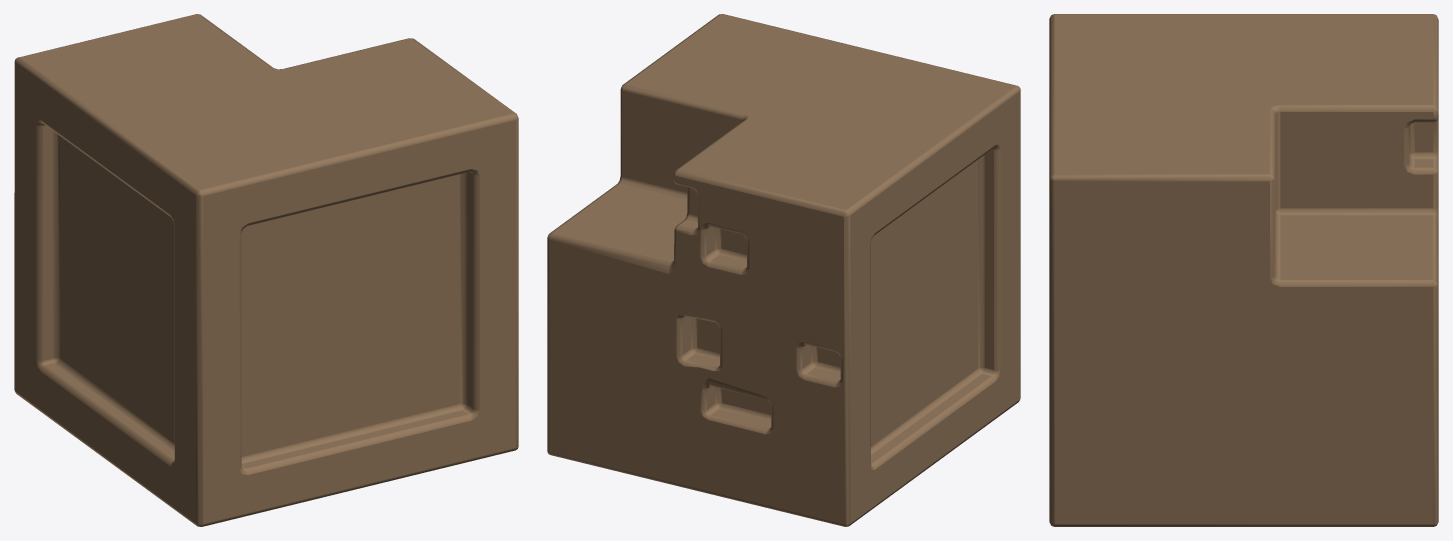
The model's file is SM_Crate_Broken.glb.
The picture shows the model from 3 angles, left to right: view 1: azimuth 30°, elevation 25°; view 2: azimuth 150°, elevation 25°; view 3: azimuth 270°, elevation 25°; orthographic projection. The views are drawn at different scales.
Visible parts, largest first — view 1: SM_Crate_Broken; view 2: SM_Crate_Broken; view 3: SM_Crate_Broken.
Part boxes in pixels (bbox=[...]): SM_Crate_Broken: bbox=[14, 14, 518, 526]; SM_Crate_Broken: bbox=[547, 14, 1020, 526]; SM_Crate_Broken: bbox=[1049, 14, 1438, 526].
Bounding box in the file's own units: 0.6 × 0.6 × 0.6.
